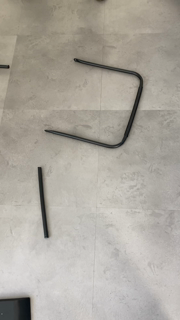C pipe: (41, 55, 146, 154)
i pipe: (34, 164, 55, 240)
